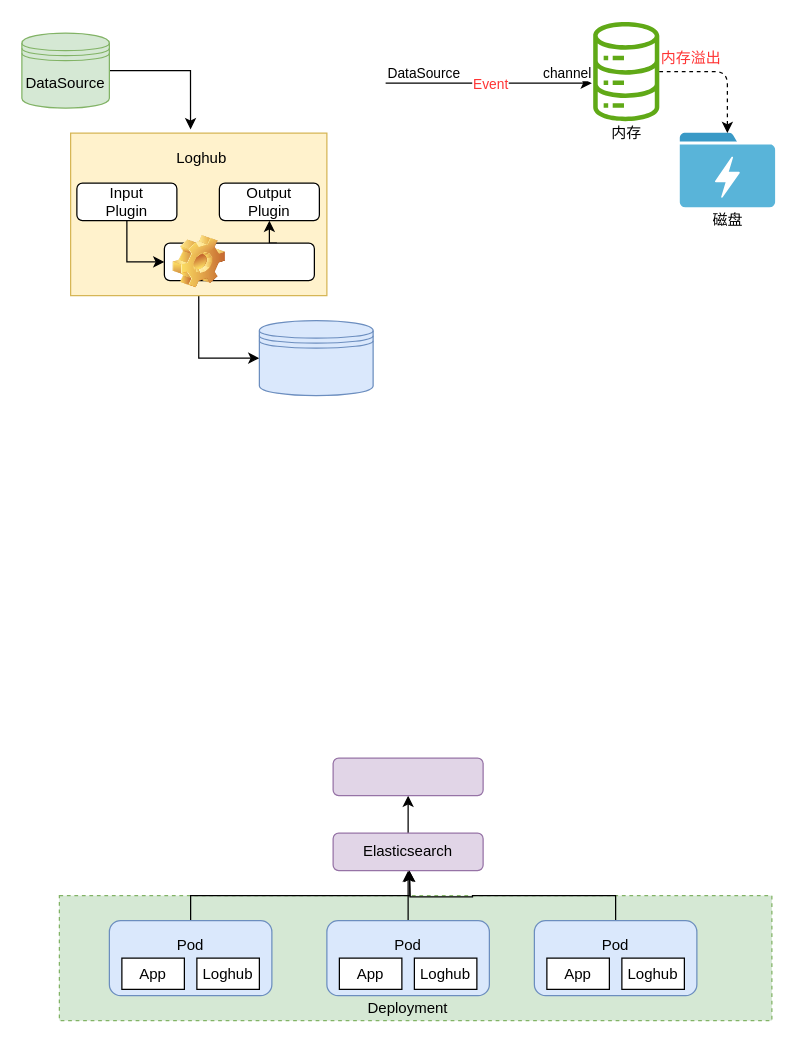
Image size: 798x1043. Some labels were removed from this diagram. Here are the shapes that lost their labels. From the top down, the centre of each, then its label:
(238,261): Function Plugin
(315,357): Data Destination
(407,776): Kibana
